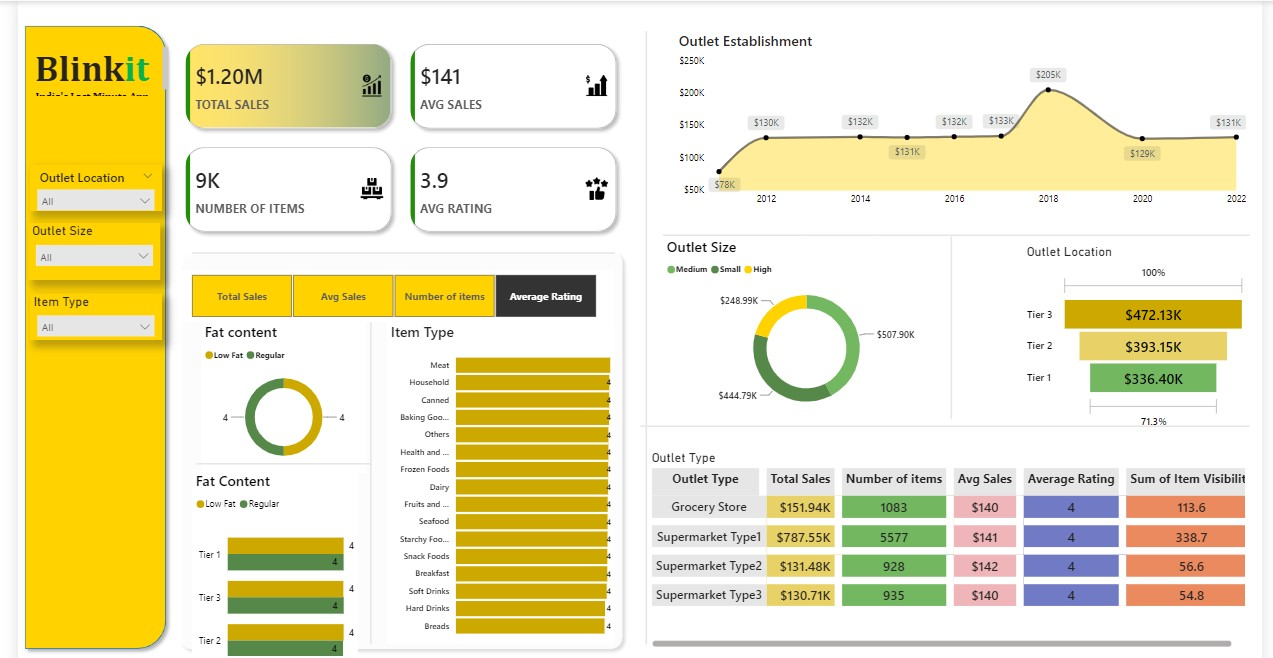

What the dashboard file says about the page in this screenshot:
{"tool":"powerbi","page":{"name":"Blinkit Dashboard","canvas":[1650,900],"ordinal":0},"visuals":[{"type":"shape","box":[0,24.6,205.3,843.8],"z":0},{"type":"textbox","box":[0,55.8,204.6,74.4],"z":1000},{"type":"cardVisual","fields":{"Data":["BlinkIT Grocery Data.Total Sales","BlinkIT Grocery Data.Avg Sales","BlinkIT Grocery Data.Number of items","BlinkIT Grocery Data.Average Rating"]},"box":[205.3,39,605.7,283.3],"z":2000},{"type":"shape","box":[205.3,322.3,605.7,546.1],"z":3000},{"type":"donutChart","title":"Fat content","fields":{"Y":["BlinkIT Grocery Data.Average Rating"],"Category":["BlinkIT Grocery Data.Item Fat Content"]},"box":[242.6,425.5,218.7,200],"z":4000},{"type":"slicer","fields":{"Values":["Metrics.Metrics"]},"box":[205.3,355.2,585.1,69.8],"z":5000},{"type":"clusteredBarChart","title":"Fat Content","fields":{"Y":["BlinkIT Grocery Data.Average Rating"],"Category":["BlinkIT Grocery Data.Outlet Location Type"],"Series":["BlinkIT Grocery Data.Item Fat Content"]},"box":[229.9,622.1,219.7,277.2],"z":7000},{"type":"shape","box":[236.6,604.4,230.6,17.9],"z":8000},{"type":"shape","box":[453.7,425,28.7,427],"z":9000},{"type":"barChart","title":"Item Type","fields":{"Y":["BlinkIT Grocery Data.Average Rating"],"Category":["BlinkIT Grocery Data.Item Type"]},"box":[488.6,425,301.8,427],"z":10000},{"type":"lineChart","title":"Outlet Establishment ","fields":{"Category":["BlinkIT Grocery Data.Outlet Establishment Year"],"Y":["BlinkIT Grocery Data.Total Sales"]},"box":[870.5,39,761.7,240.2],"z":11000},{"type":"shape","box":[811,39,43.1,813],"z":12000},{"type":"shape","box":[854.1,297.7,778.1,24.6],"z":13000},{"type":"donutChart","title":"Outlet Size","fields":{"Category":["BlinkIT Grocery Data.Outlet Size"],"Y":["BlinkIT Grocery Data.Total Sales"]},"box":[855,312.2,379.8,244.6],"z":14000},{"type":"funnel","title":" Outlet Location ","fields":{"Y":["BlinkIT Grocery Data.Total Sales"],"Category":["BlinkIT Grocery Data.Outlet Location Type"]},"box":[1332.5,322.3,299.8,250.5],"z":15000},{"type":"shape","box":[1223.7,312.1,28.7,242.3],"z":16000},{"type":"shape","box":[230.6,312.2,560.7,43.7],"z":17000},{"type":"pivotTable","title":"Outlet Type","fields":{"Rows":["BlinkIT Grocery Data.Outlet Type"],"Values":["BlinkIT Grocery Data.Total Sales","BlinkIT Grocery Data.Number of items","BlinkIT Grocery Data.Avg Sales","BlinkIT Grocery Data.Average Rating","Sum(BlinkIT Grocery Data.Item Visibility)"]},"box":[835.6,595.4,796.6,266.9],"z":18000},{"type":"shape","box":[825.1,554.7,807.2,17.9],"z":19000},{"type":"slicer","fields":{"Values":["BlinkIT Grocery Data.Outlet Location Type"]},"box":[15.9,216.7,175,61.6],"z":20000},{"type":"slicer","title":"Outlet Size","fields":{"Values":["BlinkIT Grocery Data.Outlet Size"]},"box":[13.9,294.3,175,75.6],"z":21000},{"type":"slicer","title":"Item Type","fields":{"Values":["BlinkIT Grocery Data.Item Type"]},"box":[15.9,387.7,175,61.6],"z":22000}]}

Visuals, with their boxes on the page's 1650x900 design canvas (x1, y1, x2, y2). These are canvas units, not pixel positions in the 1273x658 screenshot, which may show the page scaled, cropped or inside an application window:
shape: (left=0, top=25, right=205, bottom=868)
textbox: (left=0, top=56, right=205, bottom=130)
cardVisual - BlinkIT Grocery Data.Total Sales x BlinkIT Grocery Data.Avg Sales: (left=205, top=39, right=811, bottom=322)
shape: (left=205, top=322, right=811, bottom=868)
"Fat content" donutChart: (left=243, top=426, right=461, bottom=626)
slicer - Metrics.Metrics: (left=205, top=355, right=790, bottom=425)
"Fat Content" clusteredBarChart: (left=230, top=622, right=450, bottom=899)
shape: (left=237, top=604, right=467, bottom=622)
shape: (left=454, top=425, right=482, bottom=852)
"Item Type" barChart: (left=489, top=425, right=790, bottom=852)
"Outlet Establishment " lineChart: (left=870, top=39, right=1632, bottom=279)
shape: (left=811, top=39, right=854, bottom=852)
shape: (left=854, top=298, right=1632, bottom=322)
"Outlet Size" donutChart: (left=855, top=312, right=1235, bottom=557)
" Outlet Location " funnel: (left=1332, top=322, right=1632, bottom=573)
shape: (left=1224, top=312, right=1252, bottom=554)
shape: (left=231, top=312, right=791, bottom=356)
"Outlet Type" pivotTable: (left=836, top=595, right=1632, bottom=862)
shape: (left=825, top=555, right=1632, bottom=573)
slicer - BlinkIT Grocery Data.Outlet Location Type: (left=16, top=217, right=191, bottom=278)
"Outlet Size" slicer: (left=14, top=294, right=189, bottom=370)
"Item Type" slicer: (left=16, top=388, right=191, bottom=449)
